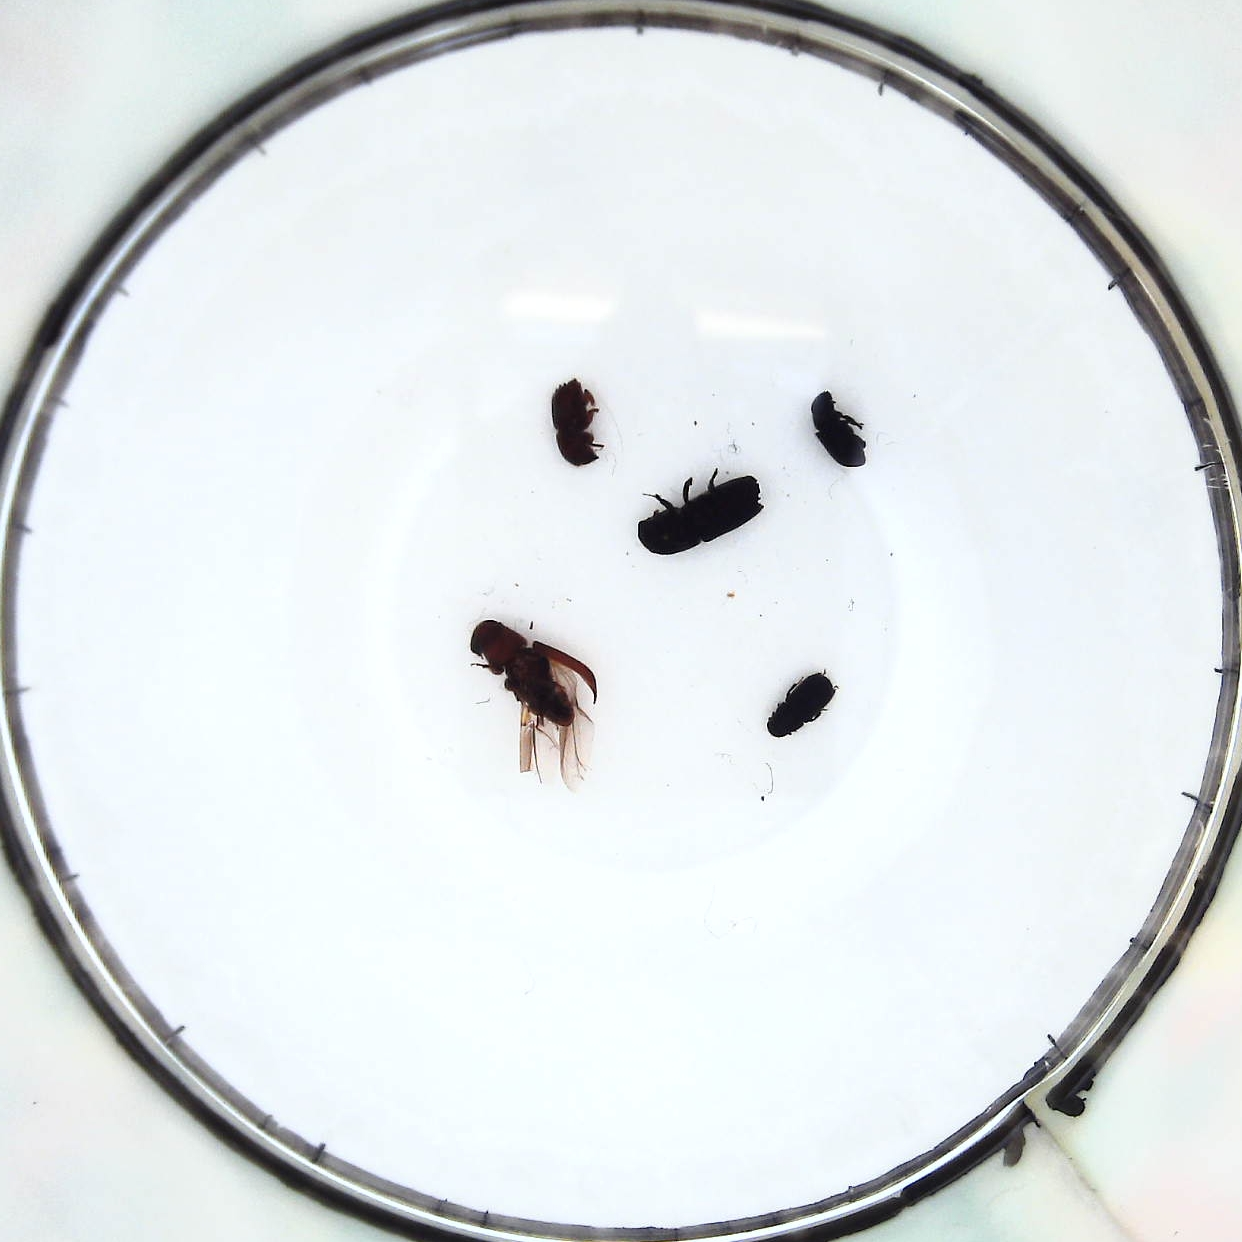Boerner: (637, 478, 764, 556)
Leconte: (471, 619, 598, 773)
Linnaeus: (554, 373, 601, 470)
armandi: (769, 674, 833, 742), (815, 392, 866, 463)
